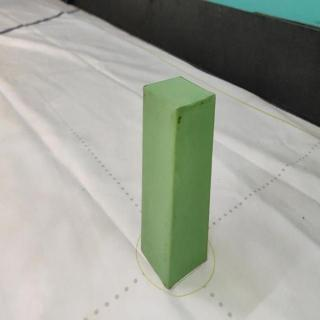greenbox: (141, 74, 216, 288)
